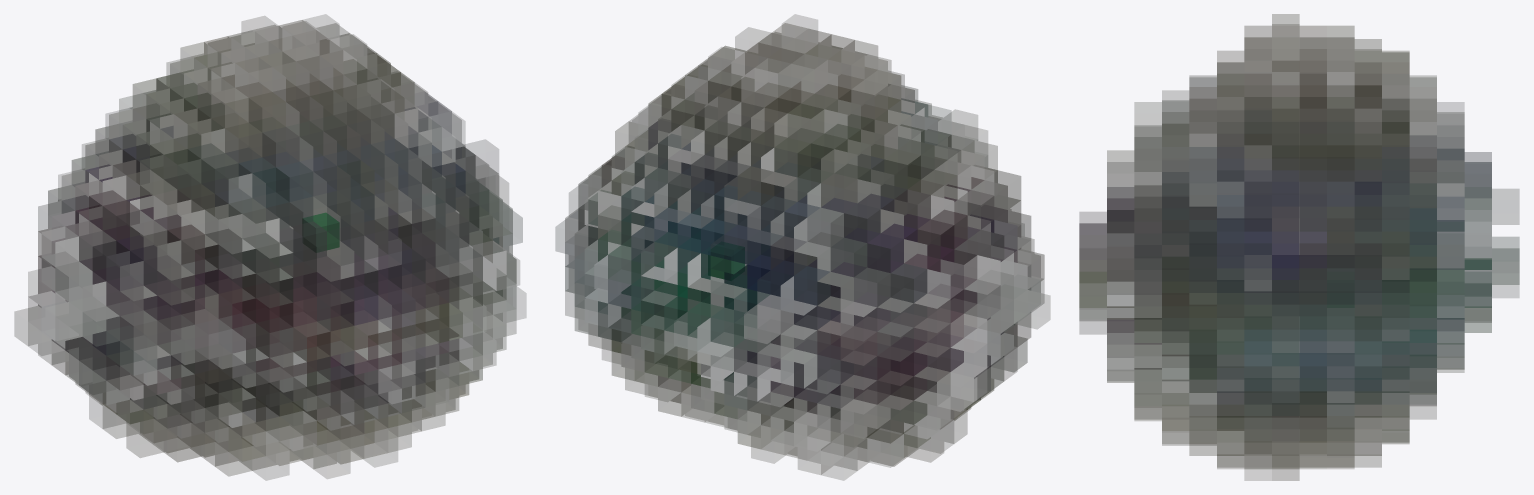
File: iter_30.obj
The picture shows the model from 3 angles, left to right: view 1: azimuth 30°, elevation 25°; view 2: azimuth 150°, elevation 25°; view 3: azimuth 270°, elevation 25°; orthographic projection. The views are drawn at different scales.
Visible parts, largest first — view 1: iter_30; view 2: iter_30; view 3: iter_30.
Part boxes in pixels (box(x1,y1,x2,y2)): iter_30: box(14, 14, 525, 480); iter_30: box(555, 14, 1049, 480); iter_30: box(1079, 14, 1519, 480).
Size of the model in its own units: 1.9 by 1.6 by 1.6.
